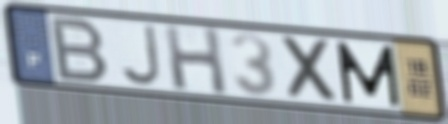3: (230, 29, 277, 101)
B: (49, 14, 112, 85)
H: (161, 22, 231, 98)
J: (116, 22, 163, 88)
M: (333, 39, 404, 109)
X: (278, 33, 342, 106)
